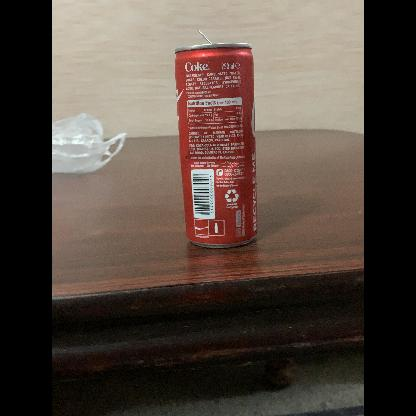Dent_Can: (183, 142, 223, 171), (218, 148, 248, 174)
Lid_Open: (190, 24, 224, 52)
Tin_Can: (167, 26, 264, 260)
